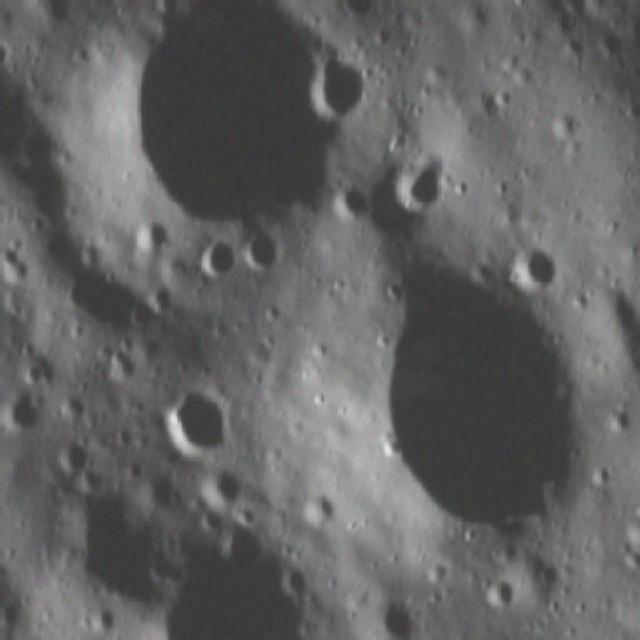crater: (98, 1, 399, 284), (358, 242, 594, 535), (158, 514, 314, 637), (307, 31, 384, 126), (157, 385, 240, 450), (501, 238, 573, 299), (239, 218, 295, 284), (391, 150, 452, 207), (189, 234, 243, 286), (14, 115, 63, 167), (371, 590, 422, 638), (194, 458, 243, 504), (478, 573, 522, 619), (6, 381, 43, 434), (132, 213, 176, 250), (52, 434, 96, 471), (54, 388, 91, 426)
